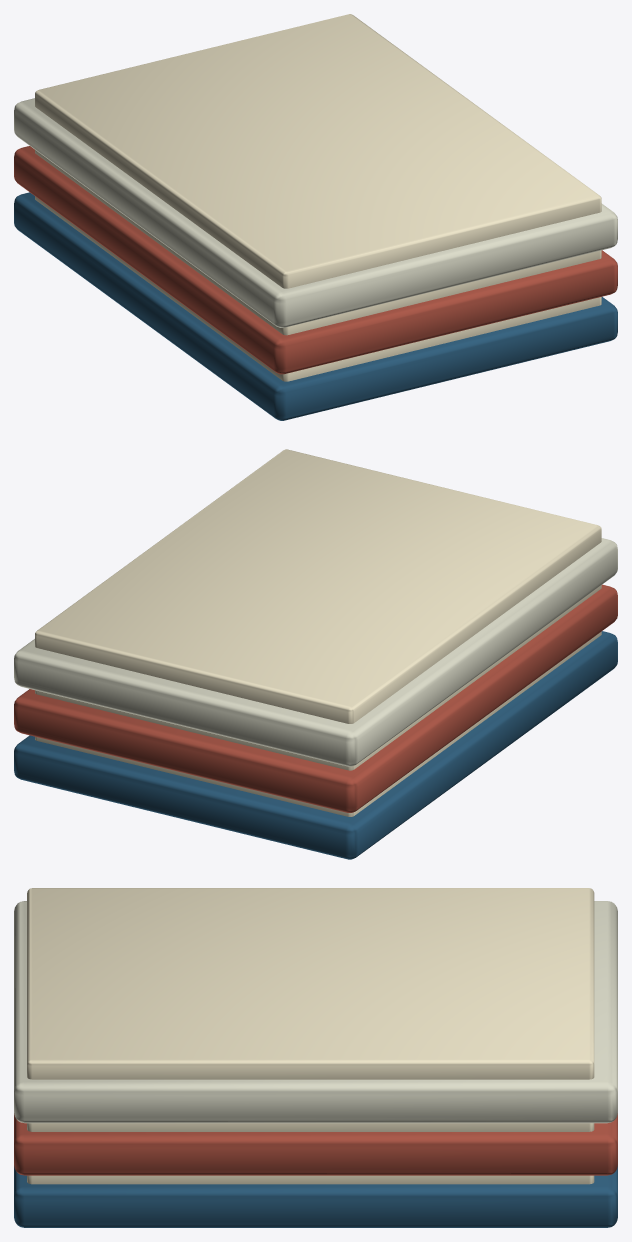
Rendered from urban-school-books-v1.glb.
The picture shows the model from 3 angles, top to bottom: view 1: azimuth 30°, elevation 25°; view 2: azimuth 150°, elevation 25°; view 3: azimuth 270°, elevation 25°; orthographic projection. The views are drawn at different scales.
Parts seen in each view (by area): view 1: Page edges.002, Book cover.002, Book cover, Book cover.001, Page edges.001, Page edges; view 2: Page edges.002, Book cover.002, Book cover, Book cover.001, Page edges.001, Page edges; view 3: Page edges.002, Book cover.002, Book cover.001, Book cover, Page edges, Page edges.001.
Part boxes in pixels (x1,y1,x2,y2): Page edges.002: (35, 14, 601, 288); Book cover.002: (14, 98, 617, 327); Book cover: (14, 192, 617, 420); Book cover.001: (14, 146, 617, 374); Page edges.001: (35, 150, 601, 335); Page edges: (35, 196, 601, 381); Page edges.002: (35, 449, 601, 723); Book cover.002: (14, 538, 617, 766); Book cover: (14, 631, 617, 859); Book cover.001: (14, 584, 617, 812); Page edges.001: (35, 585, 601, 770); Page edges: (35, 631, 601, 816); Page edges.002: (27, 888, 594, 1079); Book cover.002: (14, 901, 617, 1123); Book cover.001: (14, 1113, 617, 1175); Book cover: (14, 1166, 617, 1227); Page edges: (27, 1175, 594, 1184); Page edges.001: (27, 1123, 594, 1131).
Bounding box in the file's own units: 0.17 × 0.0685 × 0.23.
4 materials, 4 textured.
